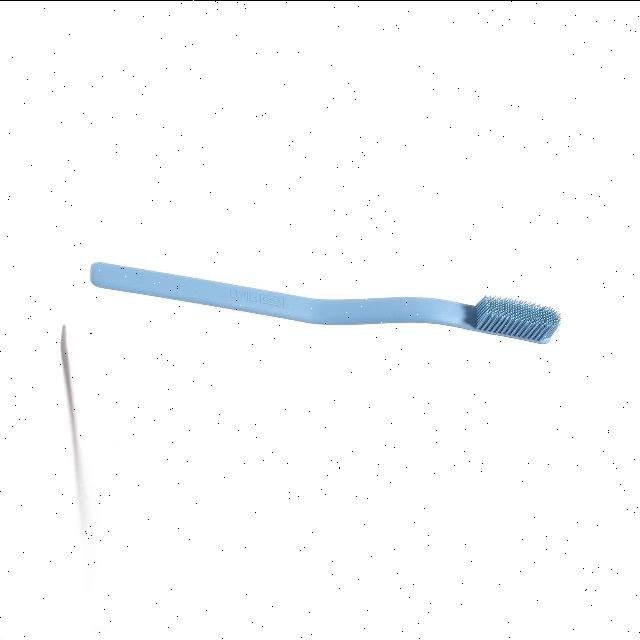toothbrush: (91, 245, 566, 365)
